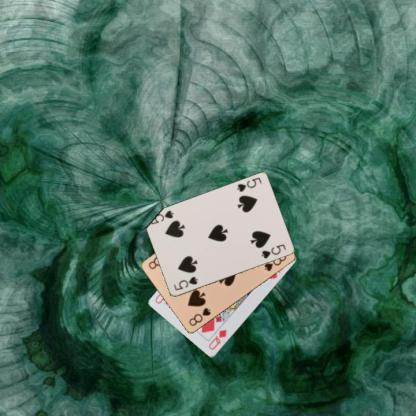5s: (234, 175, 262, 194), (171, 274, 199, 292)
8s: (186, 305, 212, 328)
Qd: (206, 327, 228, 351)
